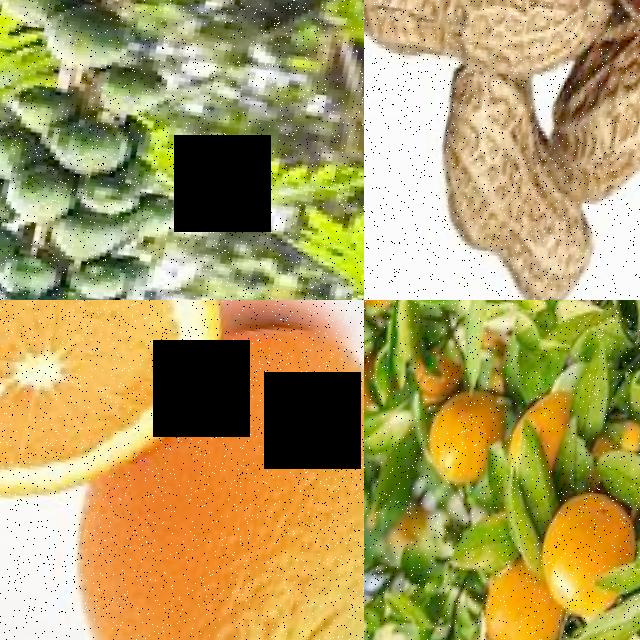orange: (164, 311, 364, 640), (0, 300, 206, 506), (540, 481, 640, 615), (425, 378, 510, 484), (486, 562, 564, 640)
pawpaw: (44, 0, 134, 70), (53, 109, 132, 171), (96, 61, 175, 111), (0, 0, 74, 19)
peanuts: (431, 62, 568, 263), (554, 21, 640, 220), (364, 0, 547, 72)
